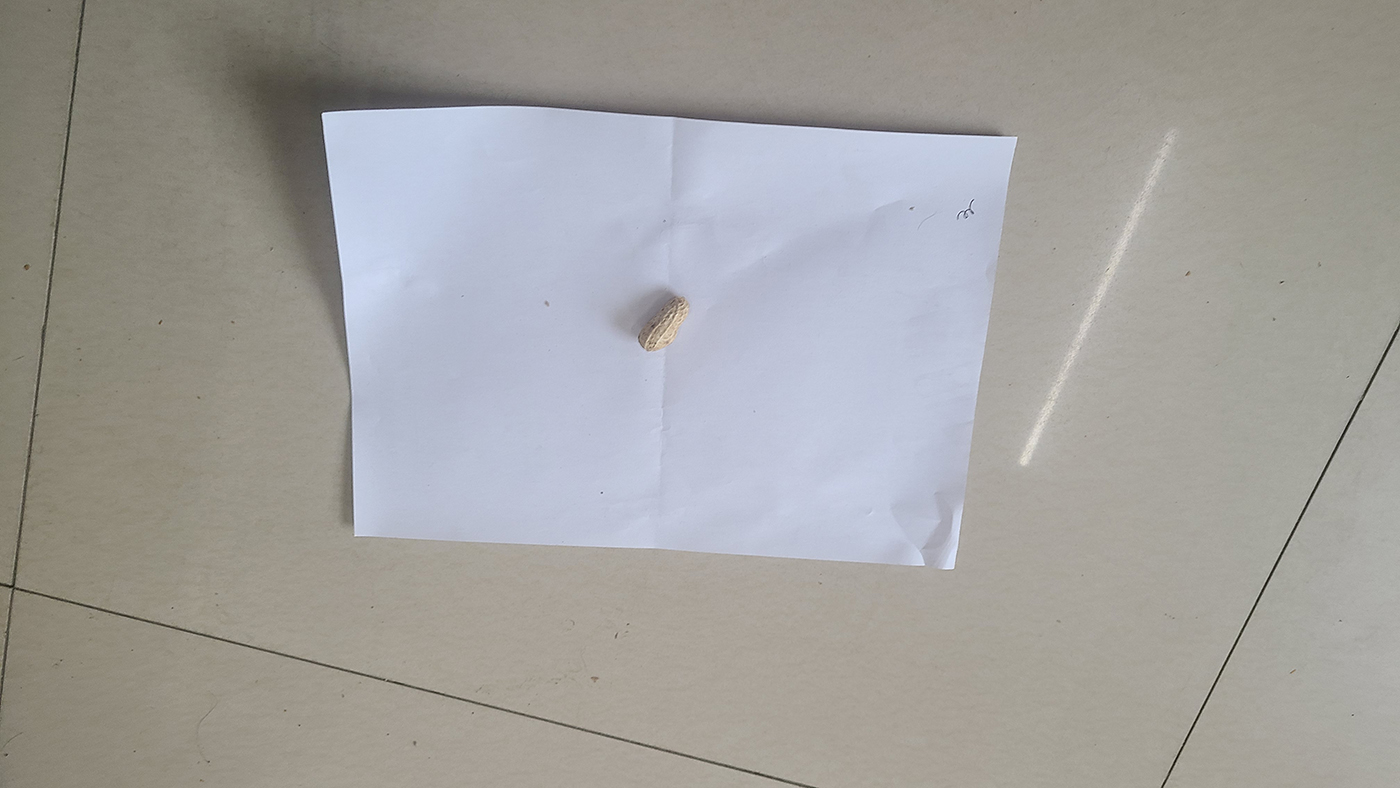h: (639, 295, 690, 352)
